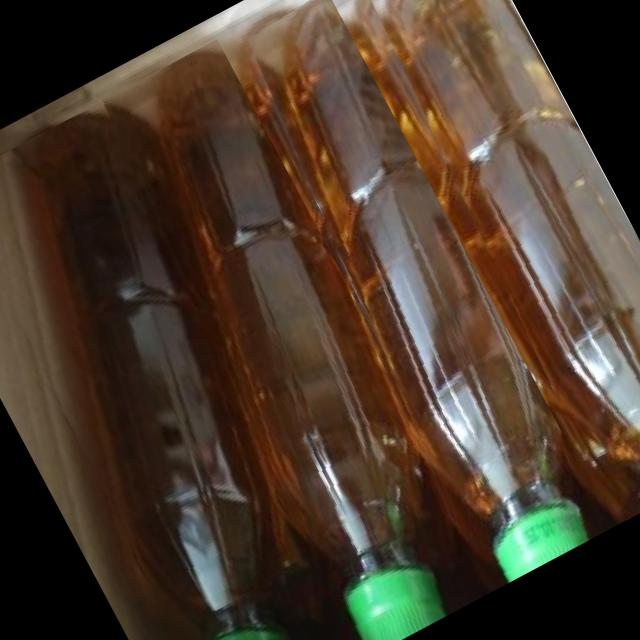plastic bottle: (72, 38, 504, 640), (196, 0, 610, 592), (0, 97, 393, 640), (331, 0, 640, 524)
